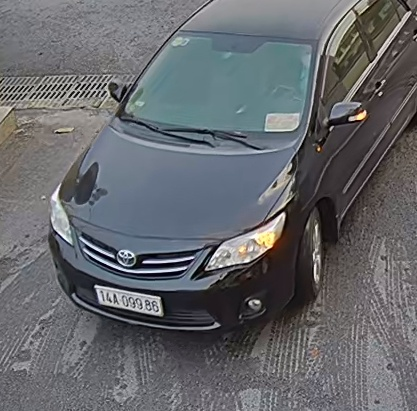vehicle plate: (90, 277, 173, 320)
